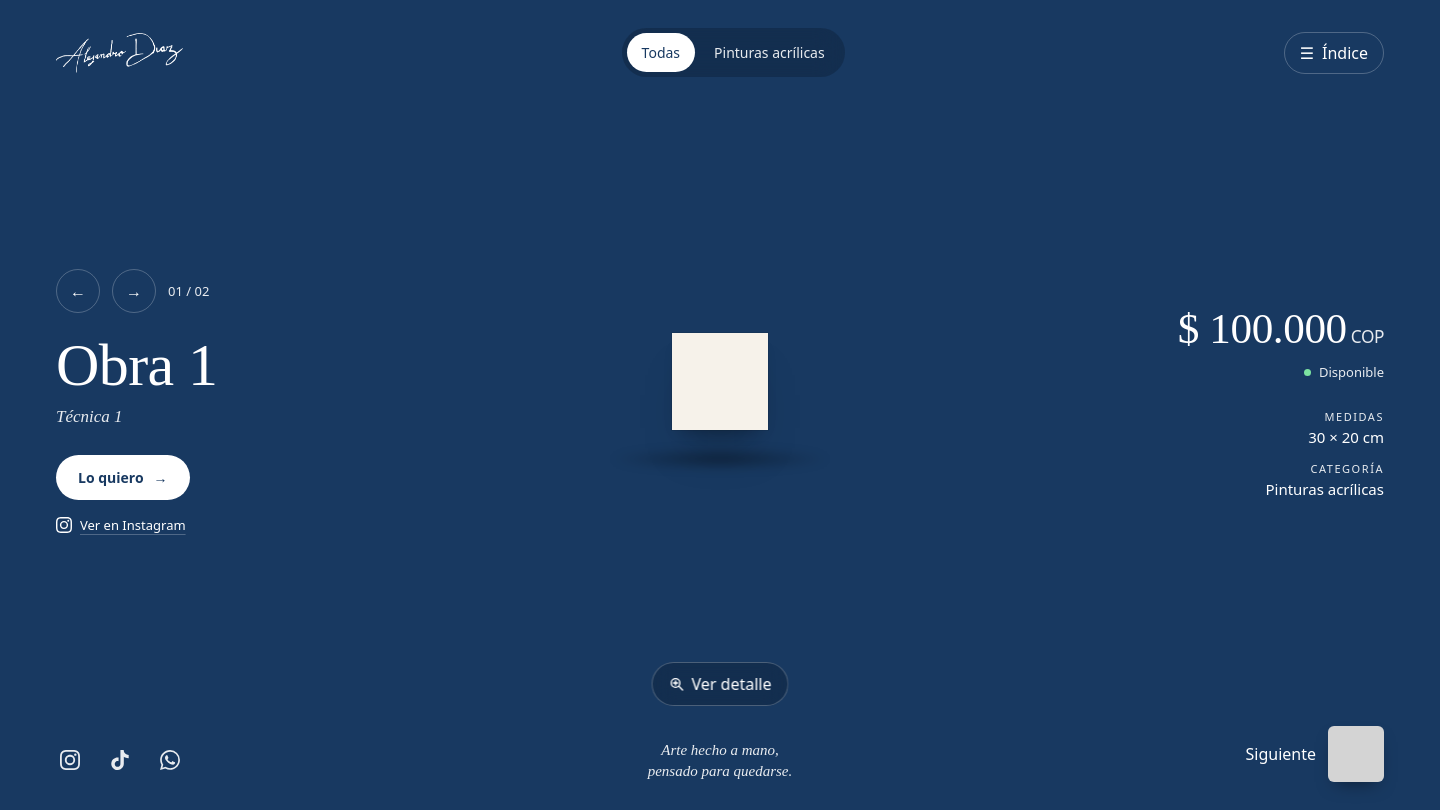
botón a la publicación de Instagram solo si la obra la tiene
Expected: the heading "Obra 1" is shown, [56,335,217,397]
Click the button named "Obra siguiente" at (134, 291), box [112,269,156,313]
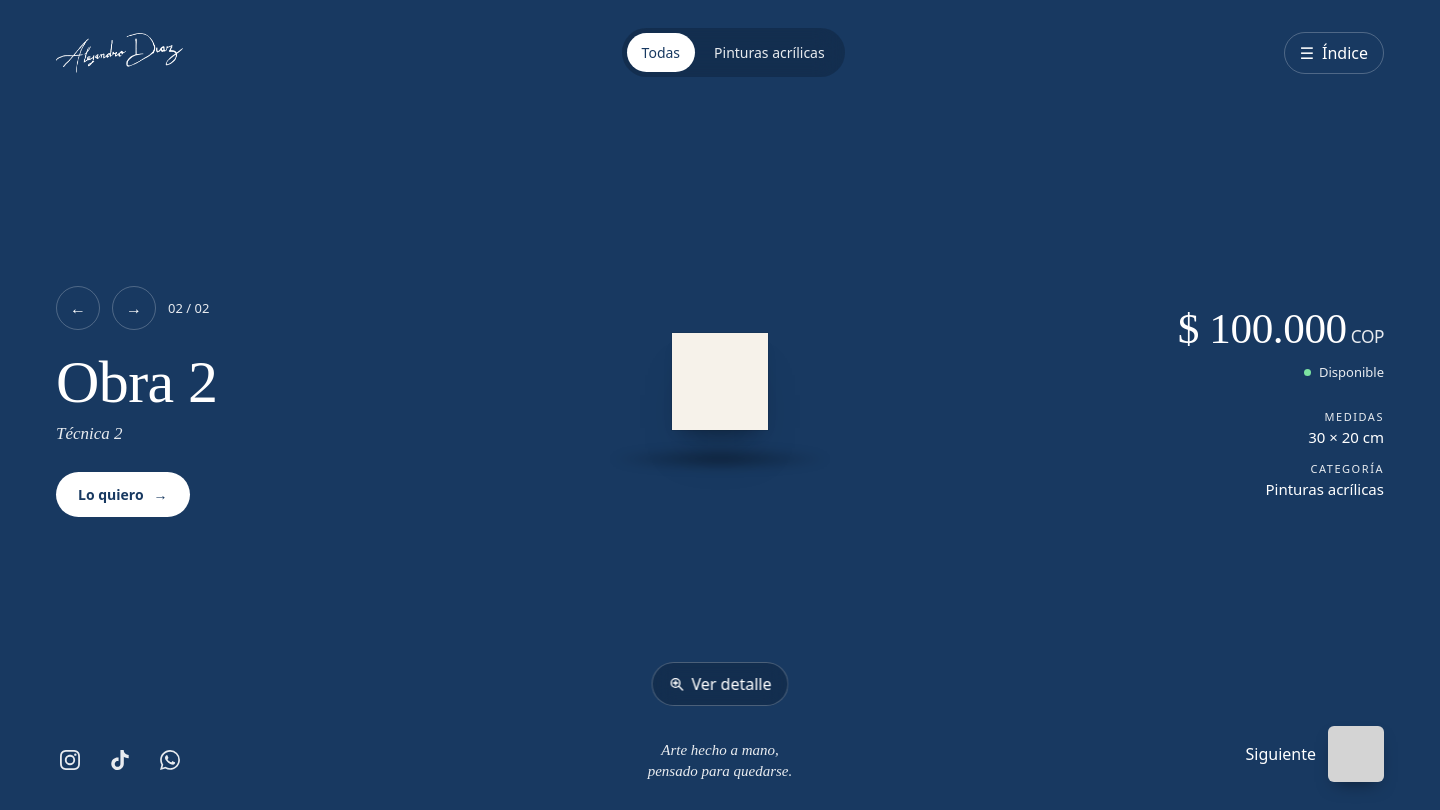
Expected: the link "Ver en Instagram" is gone
